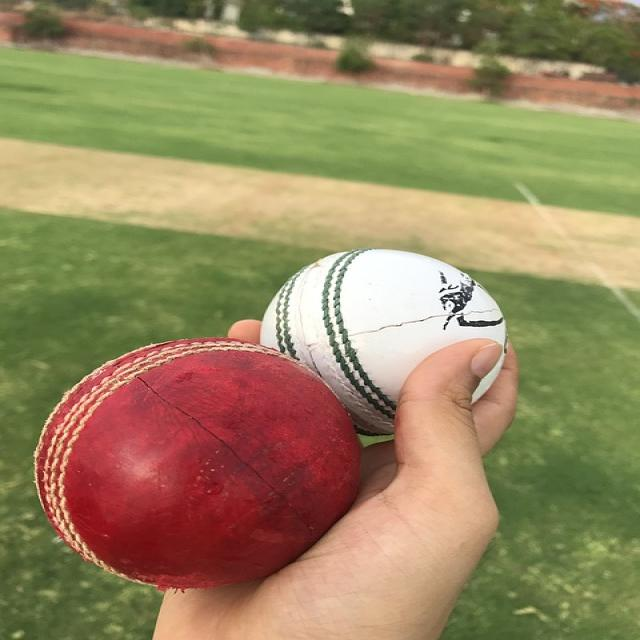ball: (27, 334, 374, 596), (257, 240, 511, 439)
